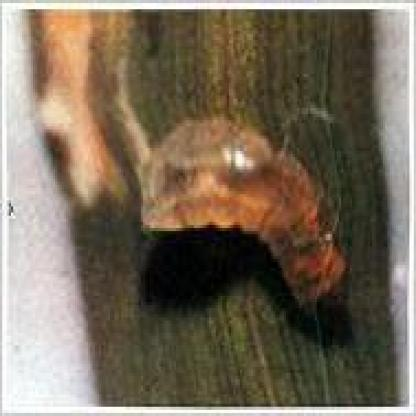whorl-maggot: (136, 112, 352, 312)
